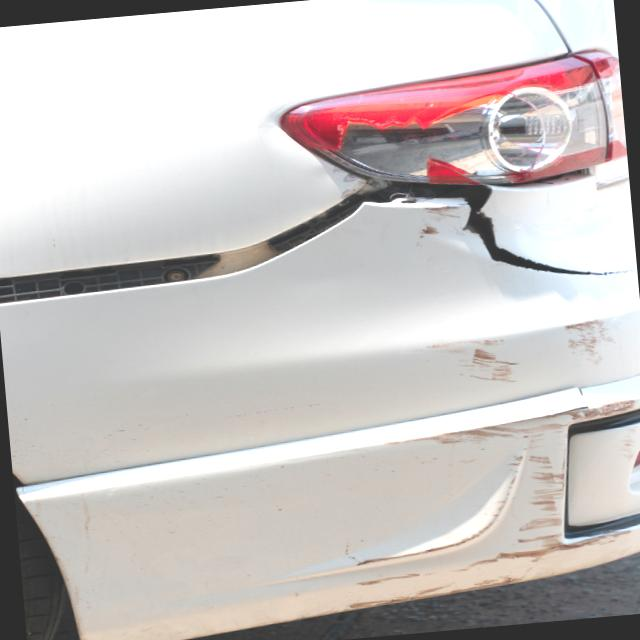Dechirure: (354, 154, 634, 319)
Phare abime: (286, 59, 628, 199)
